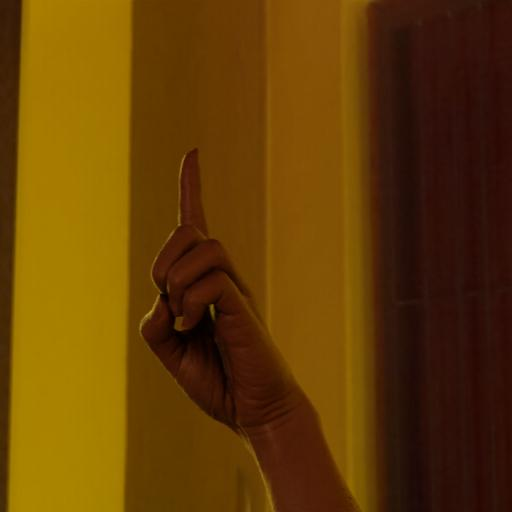D: (128, 139, 328, 480)
